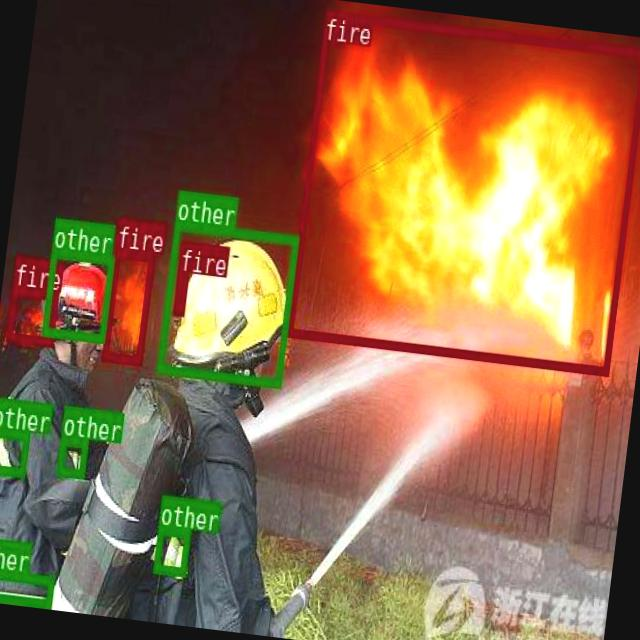fire: (284, 9, 640, 374), (101, 247, 154, 364), (5, 286, 58, 344), (172, 270, 188, 314)
